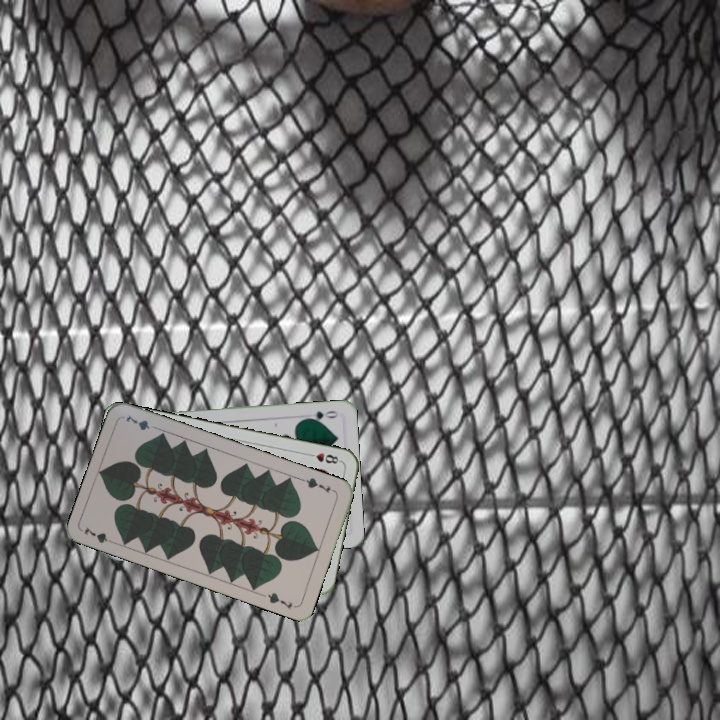G7: (80, 523, 120, 547), (299, 474, 333, 495)
GO: (300, 407, 340, 424)
H8: (303, 449, 343, 466)
